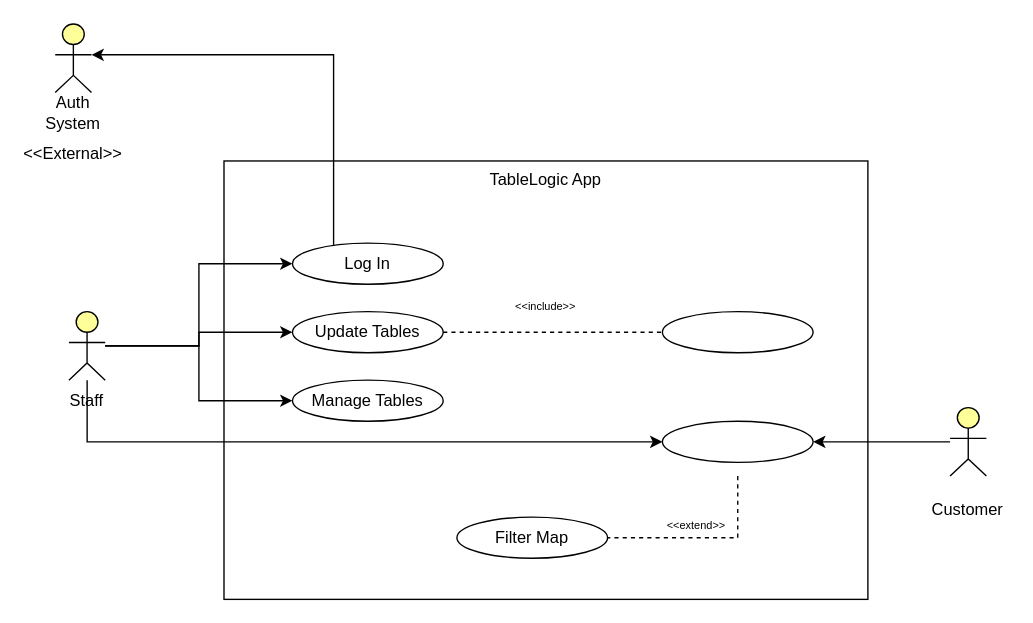
Image size: 1033x623. Some labels were removed from this diagram. The shapes that lost their labels are listed below. From the top down, each one's box as (x1, y1, x2, y2) in pixels, then its label:
(661, 310, 813, 353): Verify Session
(661, 420, 813, 462): View Map
